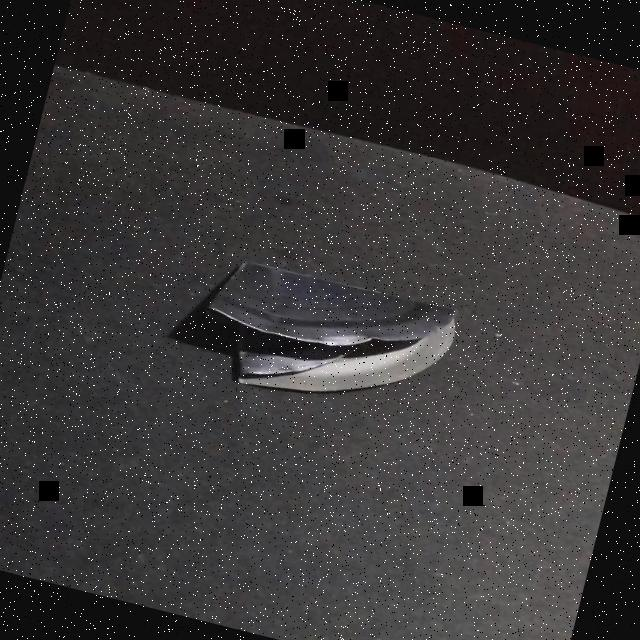can: (191, 246, 467, 438)
